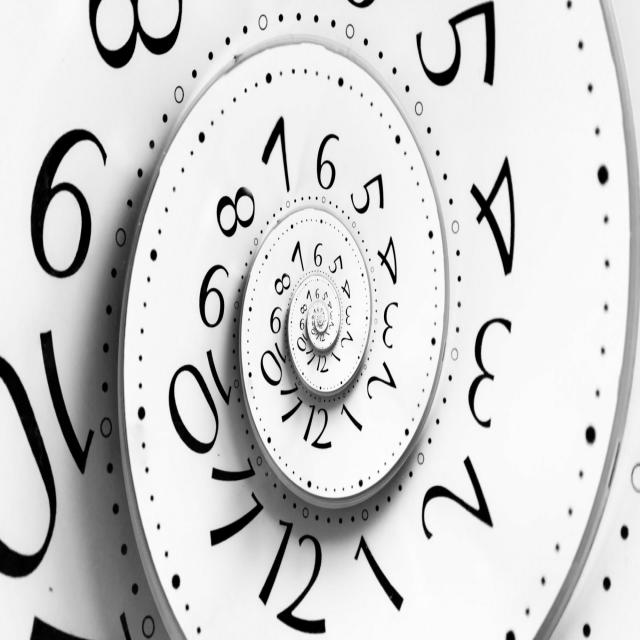clock: (141, 104, 467, 522)
